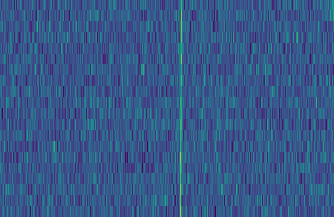signal: (175, 0, 185, 217)
